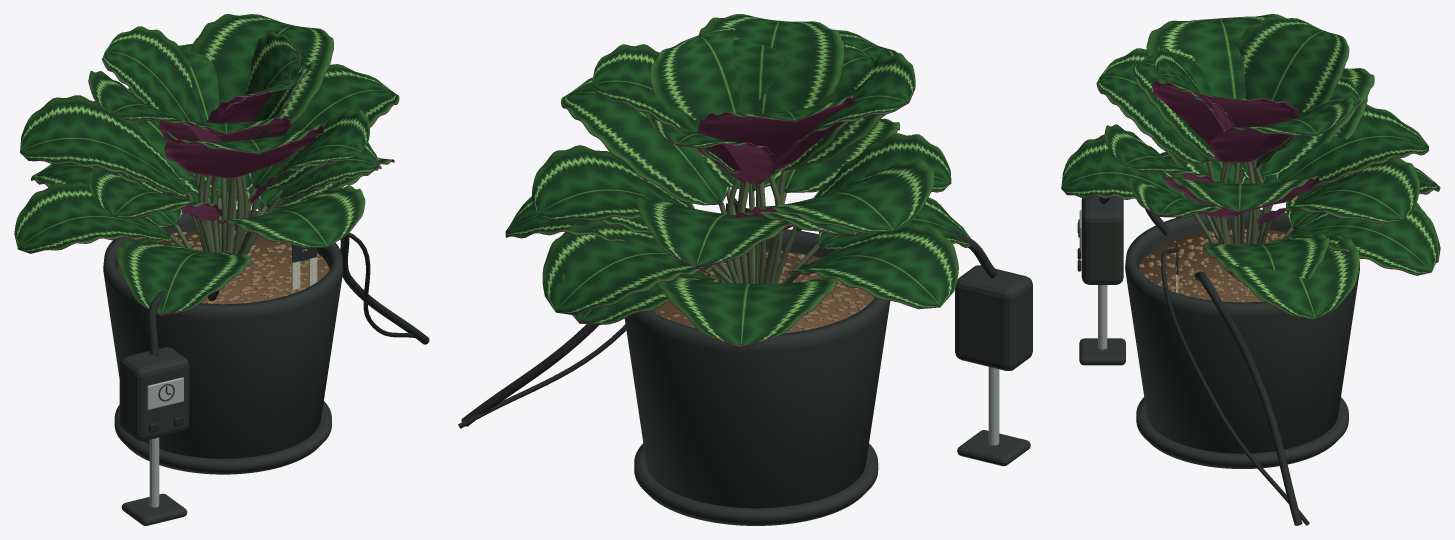
The model's file is calathea-studio.glb.
The picture shows the model from 3 angles, left to right: view 1: azimuth 30°, elevation 25°; view 2: azimuth 150°, elevation 25°; view 3: azimuth 270°, elevation 25°; orthographic projection. The views are drawn at different scales.
Visible parts, largest first — view 1: Planter, Leaf 22, Leaf 08, Leaf 12, Leaf 09, Leaf 14, Leaf 13, Leaf 15, Timer body, Leaf 07, Drainage saucer, Leaf 04 (+19 smaller); view 2: Planter, Leaf 03, Leaf 09, Leaf 06, Leaf 13, Leaf 16, Timer body, Leaf 02, Leaf 22, Leaf 05, Leaf 19, Leaf 14 (+19 smaller); view 3: Planter, Leaf 14, Leaf 16, Leaf 19, Leaf 03, Leaf 21, Leaf 17, Leaf 05, Leaf 07, Leaf 15, Drainage saucer, Timer body (+18 smaller).
Part boxes in pixels (x1,y1,x2,y2): Planter: [103, 209, 343, 458]; Leaf 22: [20, 95, 187, 199]; Leaf 08: [191, 14, 333, 124]; Leaf 12: [117, 239, 251, 316]; Leaf 09: [14, 181, 172, 253]; Leaf 14: [102, 26, 203, 140]; Leaf 13: [248, 64, 399, 189]; Leaf 15: [219, 185, 365, 247]; Timer body: [119, 347, 189, 441]; Leaf 07: [164, 124, 324, 178]; Drainage saucer: [114, 401, 331, 474]; Leaf 04: [87, 166, 221, 221]; Planter: [624, 229, 890, 508]; Leaf 03: [542, 221, 714, 315]; Leaf 09: [788, 223, 958, 309]; Leaf 06: [655, 275, 838, 348]; Leaf 13: [561, 77, 729, 205]; Leaf 16: [531, 145, 690, 222]; Timer body: [955, 265, 1032, 370]; Leaf 02: [699, 14, 844, 113]; Leaf 22: [747, 160, 934, 233]; Leaf 05: [650, 27, 742, 123]; Leaf 19: [636, 195, 793, 267]; Leaf 14: [697, 95, 854, 171]; Planter: [1125, 209, 1359, 453]; Leaf 14: [1235, 16, 1349, 150]; Leaf 16: [1257, 157, 1419, 224]; Leaf 19: [1275, 104, 1428, 191]; Leaf 03: [1288, 206, 1438, 275]; Leaf 21: [1225, 235, 1359, 319]; Leaf 17: [1146, 14, 1286, 99]; Leaf 05: [1152, 80, 1299, 159]; Leaf 07: [1096, 48, 1209, 163]; Leaf 15: [1061, 134, 1186, 199]; Drainage saucer: [1136, 397, 1348, 468]; Timer body: [1081, 196, 1123, 284].
Bounding box in the file's own units: 5.07 × 4.34 × 4.07.
13 materials, 1 textured.
